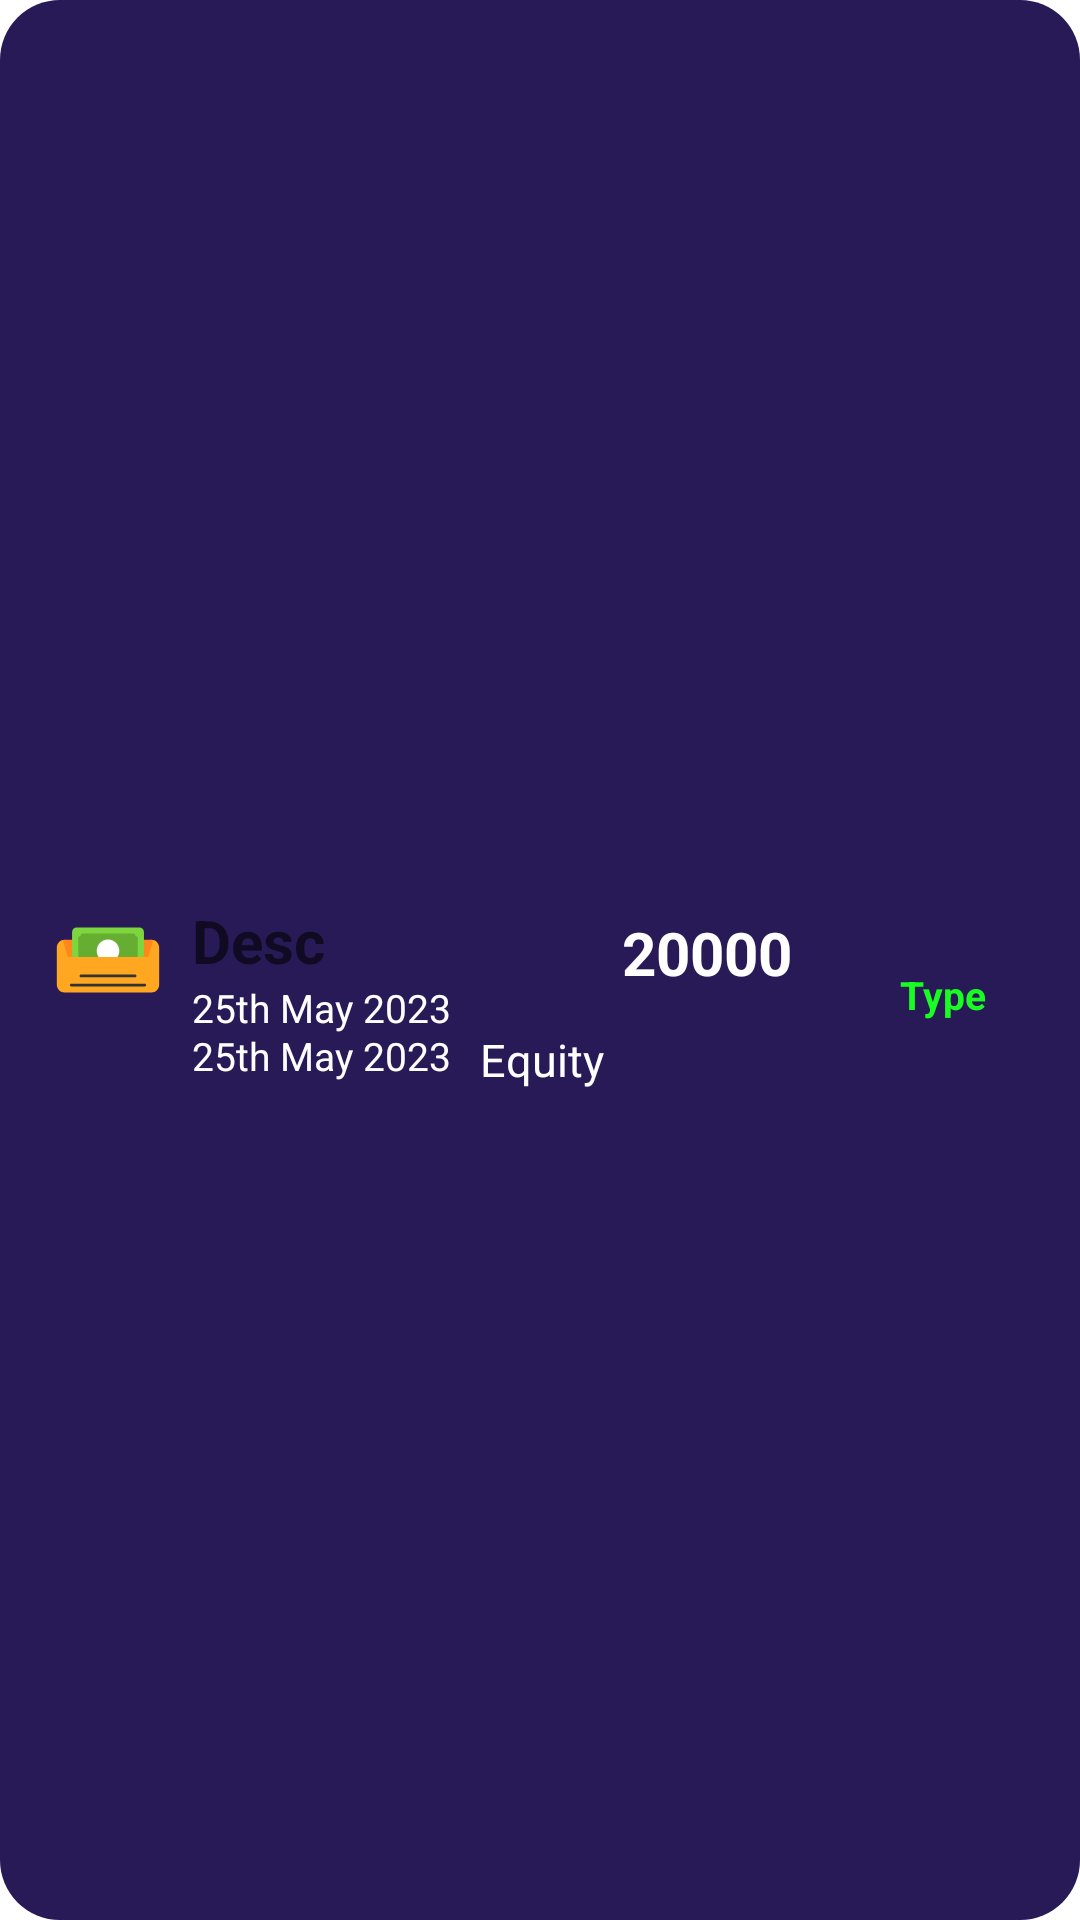

Point at icon controls on the screen. Image size 1080 × 1920, points as (x=x, y=y).
incc: (x=108, y=960)
